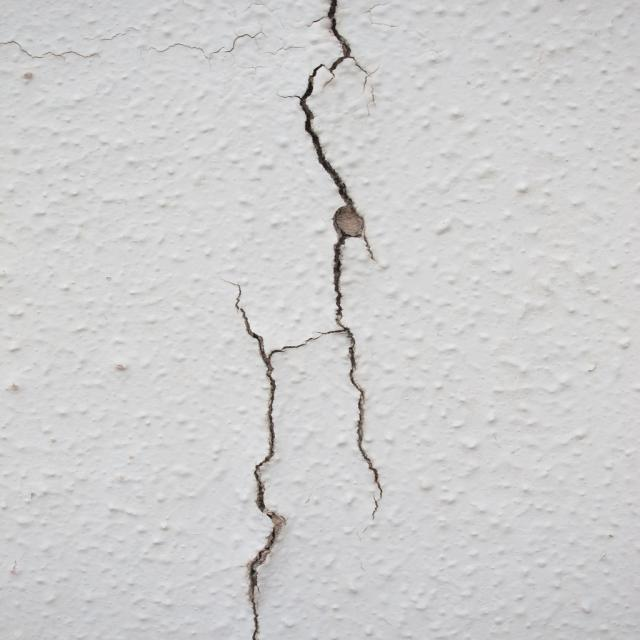Wall_Cracks: (161, 2, 439, 640)
